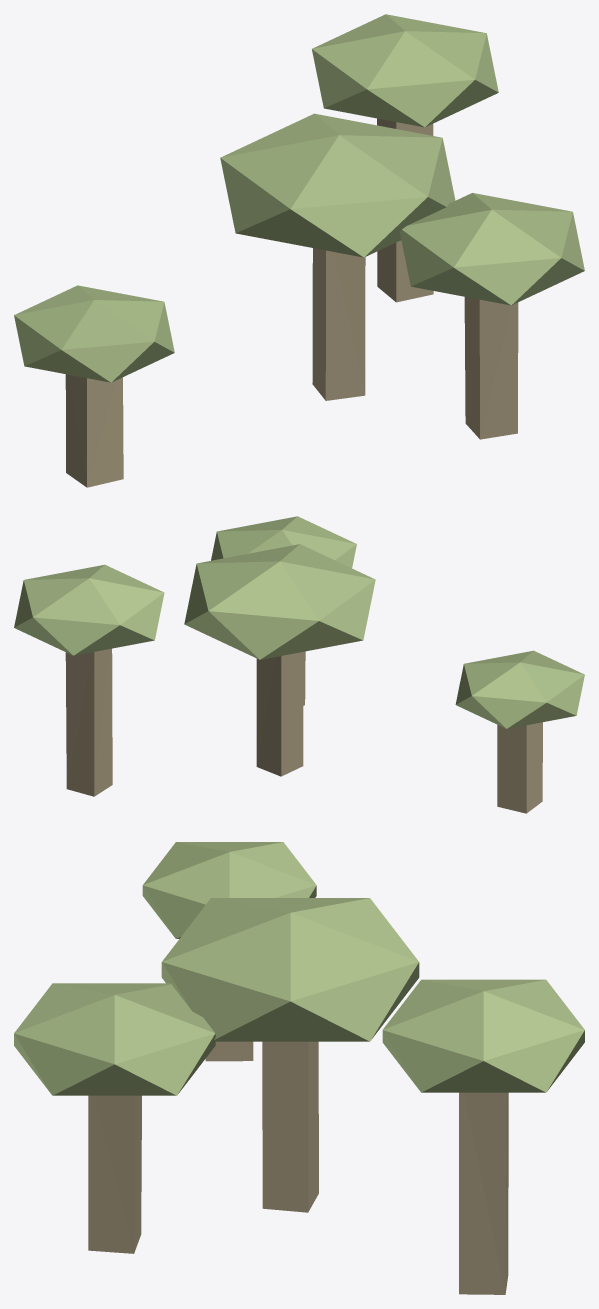
Rendered from glow-fungus.glb.
3 views of the same model, one above another, from view 1: azimuth 30°, elevation 25°; view 2: azimuth 150°, elevation 25°; view 3: azimuth 270°, elevation 25° (orthographic). The views are drawn at different scales.
Visible parts, largest first — view 1: glow-fungus; view 2: glow-fungus; view 3: glow-fungus.
Part boxes in pixels (bbox=[...]): glow-fungus: bbox=[14, 14, 584, 487]; glow-fungus: bbox=[14, 516, 584, 813]; glow-fungus: bbox=[14, 842, 584, 1294].
Size of the model in its own units: 0.2696 by 0.1163 by 0.205.
